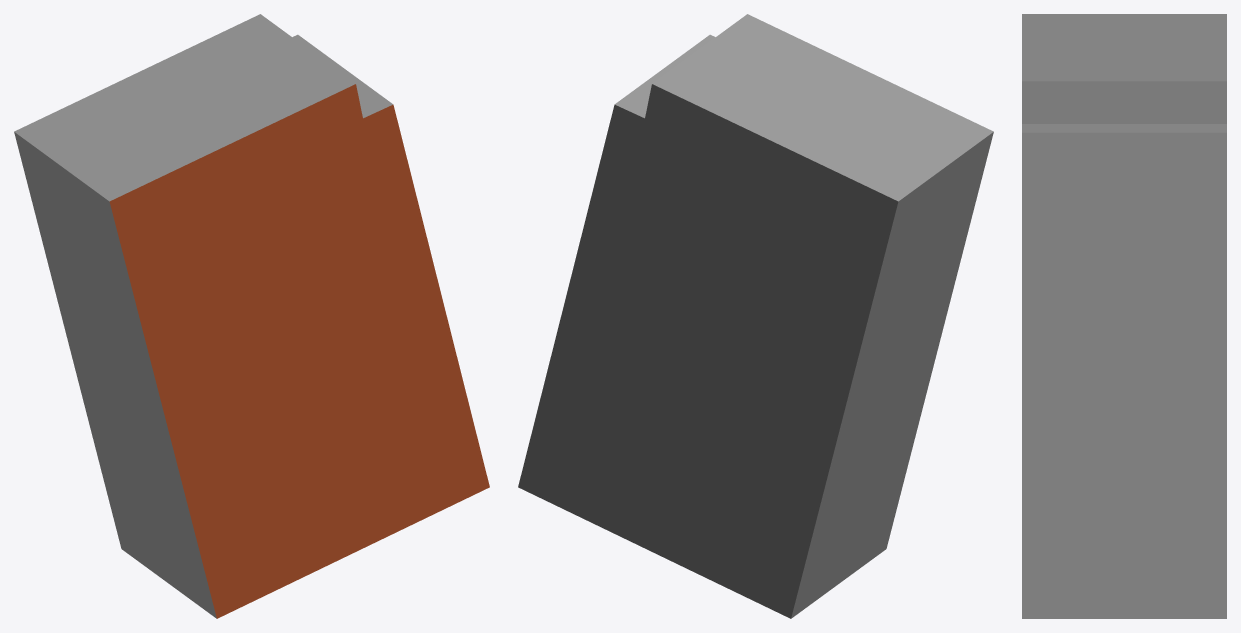
File: construction_1719_assumed_A_Casa_h6m.obj
3 views of the same model, side by side, from view 1: azimuth 30°, elevation 25°; view 2: azimuth 150°, elevation 25°; view 3: azimuth 270°, elevation 25° (orthographic). The views are drawn at different scales.
Visible parts, largest first — view 1: construction_1719_assumed_A_Casa; view 2: construction_1719_assumed_A_Casa; view 3: construction_1719_assumed_A_Casa.
Part boxes in pixels (x1,y1,x2,y2): construction_1719_assumed_A_Casa: [14, 14, 489, 618]; construction_1719_assumed_A_Casa: [518, 14, 993, 618]; construction_1719_assumed_A_Casa: [1022, 14, 1226, 618].
Size of the model in its own units: 13.8 by 17.37 by 6.
